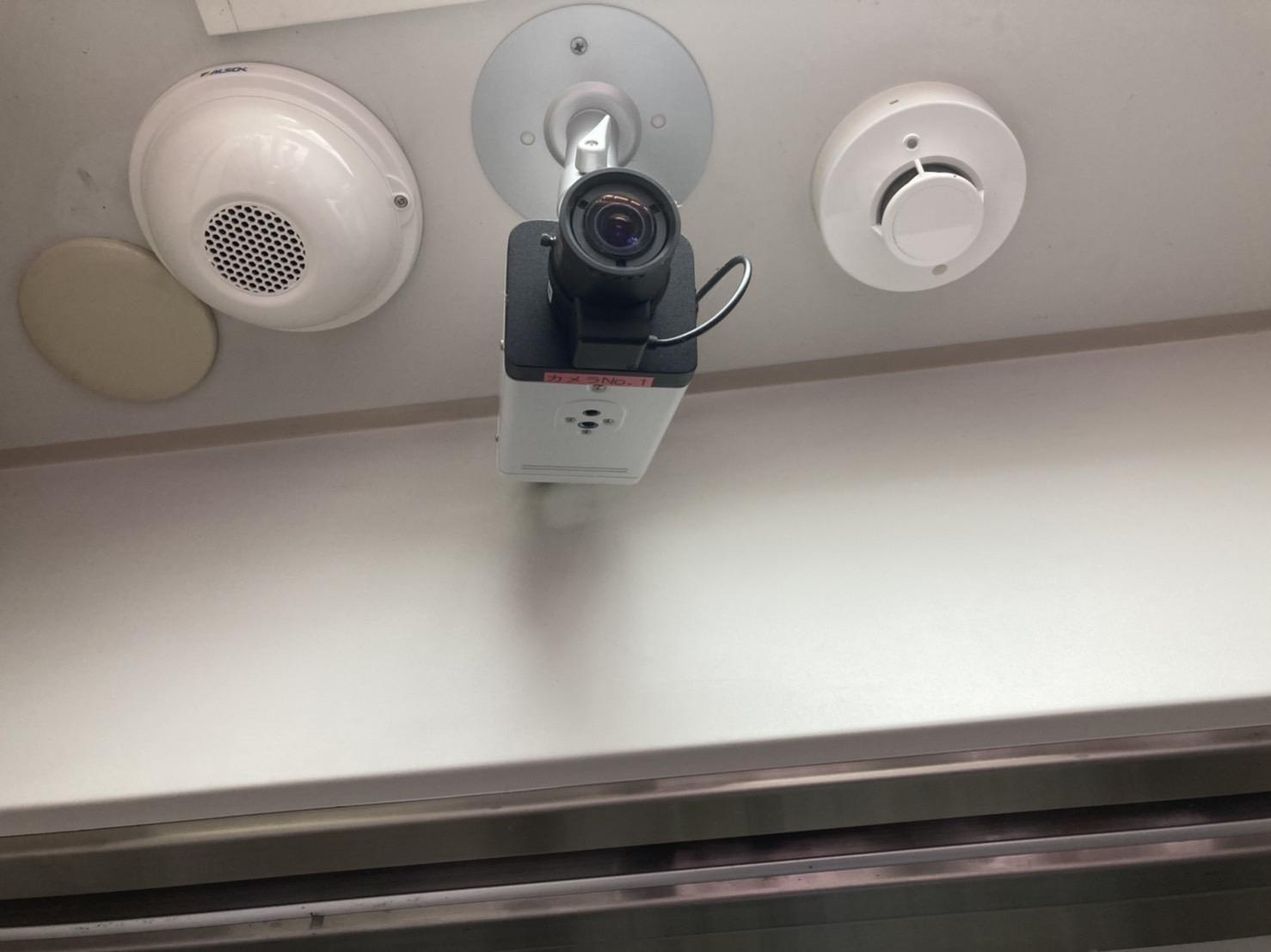tutu: (475, 175, 721, 491)
